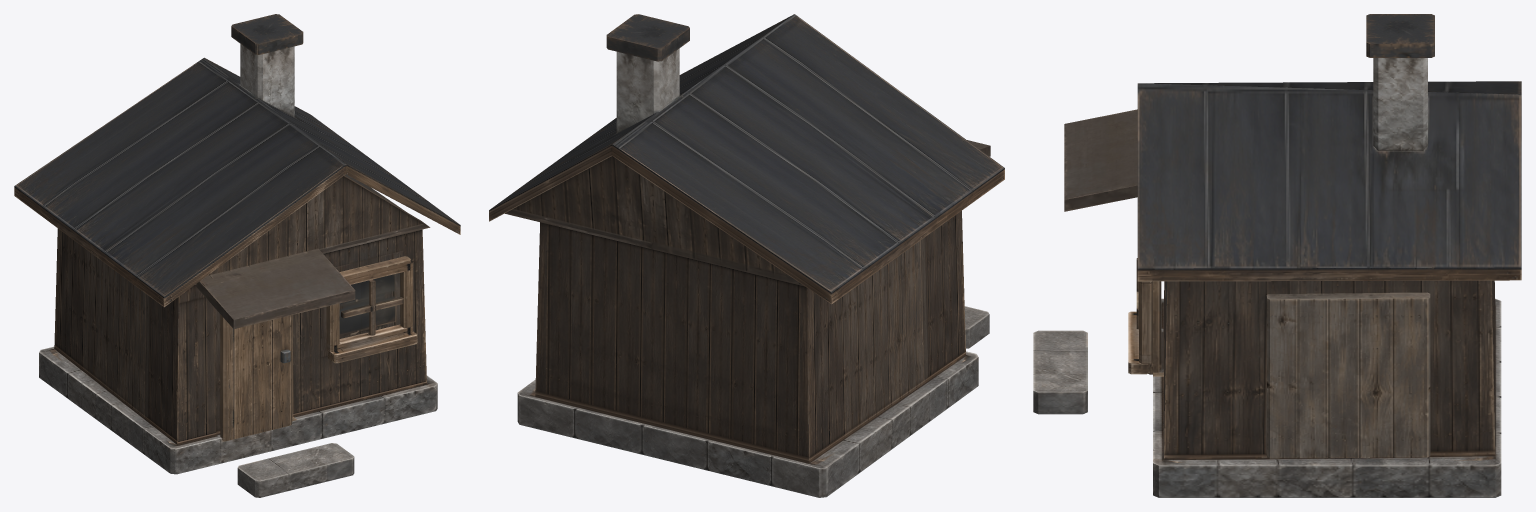
Rendered from neighbor-outbuilding-b-pbr-v1.glb.
3 renders of one model, left to right at view 1: azimuth 30°, elevation 25°; view 2: azimuth 150°, elevation 25°; view 3: azimuth 270°, elevation 25°, orthographic. The views are drawn at different scales.
Parts seen in each view (by area): view 1: VariantB_Banya_Roof_LOD0, VariantB_Banya_Wall_LOD0, VariantB_Banya_Foundation_LOD0, VariantB_Banya_GableFront_LOD0, VariantB_Banya_Door_LOD0, VariantB_Banya_EntryRoof_LOD0, VariantB_Banya_EntryStep_LOD0, VariantB_Banya_Chimney_LOD0, VariantB_Banya_ChimneyCap_LOD0, VariantB_Banya_WindowFront_Sill_LOD0, VariantB_Banya_WindowFront_Top_LOD0, VariantB_Banya_WindowFront_Right_LOD0 (+3 smaller); view 2: VariantB_Banya_Wall_LOD0, VariantB_Banya_Roof_LOD0, VariantB_Banya_Foundation_LOD0, VariantB_Banya_GableRear_LOD0, VariantB_Banya_Chimney_LOD0, VariantB_Banya_ChimneyCap_LOD0, VariantB_Banya_EntryStep_LOD0; view 3: VariantB_Banya_Roof_LOD0, VariantB_Banya_Wall_LOD0, VariantB_Banya_SideRepair_LOD0, VariantB_Banya_Foundation_LOD0, VariantB_Banya_EntryRoof_LOD0, VariantB_Banya_Chimney_LOD0, VariantB_Banya_EntryStep_LOD0, VariantB_Banya_ChimneyCap_LOD0, VariantB_Banya_WindowFront_Right_LOD0, VariantB_Banya_Door_LOD0, VariantB_Banya_WindowFront_Sill_LOD0.
Part boxes in pixels (x1,y1,x2,y2): VariantB_Banya_Roof_LOD0: [14, 57, 460, 307]; VariantB_Banya_Wall_LOD0: [54, 174, 426, 444]; VariantB_Banya_Foundation_LOD0: [39, 346, 437, 474]; VariantB_Banya_GableFront_LOD0: [195, 175, 430, 284]; VariantB_Banya_Door_LOD0: [220, 314, 292, 440]; VariantB_Banya_EntryRoof_LOD0: [196, 248, 355, 328]; VariantB_Banya_EntryStep_LOD0: [237, 443, 354, 497]; VariantB_Banya_Chimney_LOD0: [240, 44, 294, 116]; VariantB_Banya_ChimneyCap_LOD0: [231, 14, 303, 54]; VariantB_Banya_WindowFront_Sill_LOD0: [328, 331, 417, 363]; VariantB_Banya_WindowFront_Top_LOD0: [339, 256, 410, 284]; VariantB_Banya_WindowFront_Right_LOD0: [400, 260, 413, 333]; VariantB_Banya_Wall_LOD0: [535, 211, 965, 463]; VariantB_Banya_Roof_LOD0: [489, 14, 1004, 304]; VariantB_Banya_Foundation_LOD0: [517, 351, 978, 497]; VariantB_Banya_GableRear_LOD0: [505, 156, 803, 285]; VariantB_Banya_Chimney_LOD0: [616, 48, 679, 133]; VariantB_Banya_ChimneyCap_LOD0: [606, 14, 689, 61]; VariantB_Banya_EntryStep_LOD0: [964, 306, 989, 348]; VariantB_Banya_Roof_LOD0: [1137, 81, 1521, 281]; VariantB_Banya_Wall_LOD0: [1164, 280, 1495, 460]; VariantB_Banya_SideRepair_LOD0: [1266, 292, 1430, 458]; VariantB_Banya_Foundation_LOD0: [1153, 298, 1501, 497]; VariantB_Banya_EntryRoof_LOD0: [1064, 109, 1137, 211]; VariantB_Banya_Chimney_LOD0: [1373, 58, 1427, 150]; VariantB_Banya_EntryStep_LOD0: [1033, 330, 1087, 414]; VariantB_Banya_ChimneyCap_LOD0: [1366, 14, 1434, 57]; VariantB_Banya_WindowFront_Right_LOD0: [1139, 281, 1152, 364]; VariantB_Banya_Door_LOD0: [1148, 281, 1161, 374]; VariantB_Banya_WindowFront_Sill_LOD0: [1128, 311, 1149, 374].
Bounding box in the file's own units: 3.7 × 3.93 × 4.12.
1 material, 1 textured.
